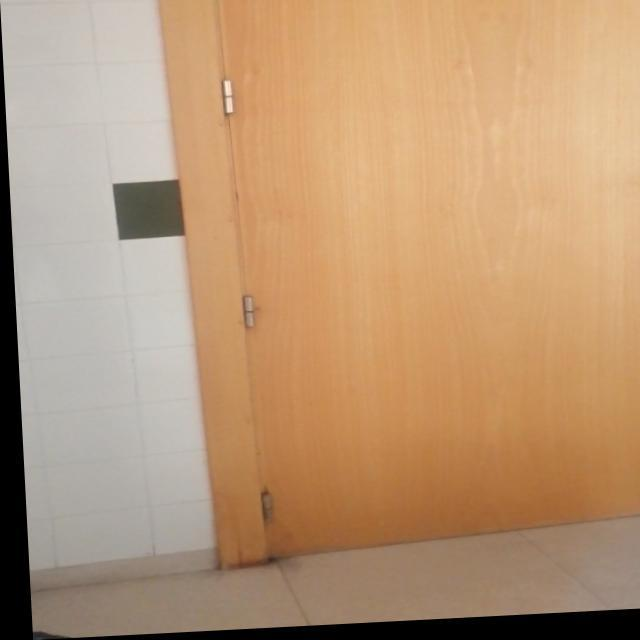door_handle: (638, 183, 640, 195)
